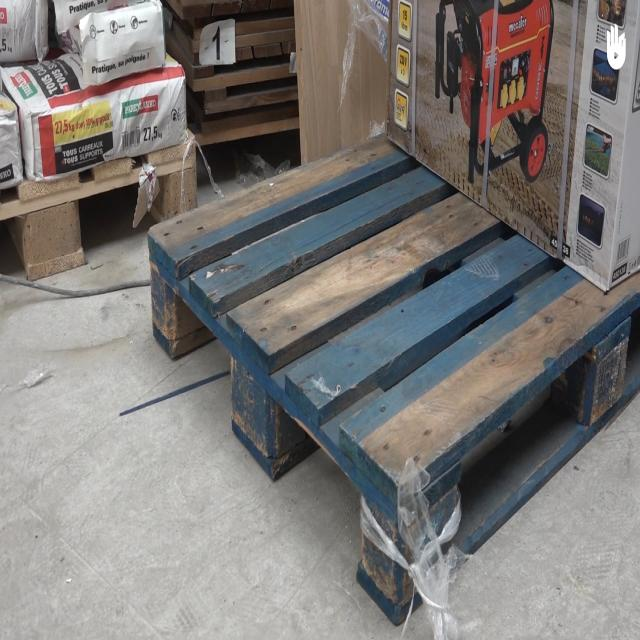Palette: (137, 133, 640, 628), (0, 126, 208, 290)
